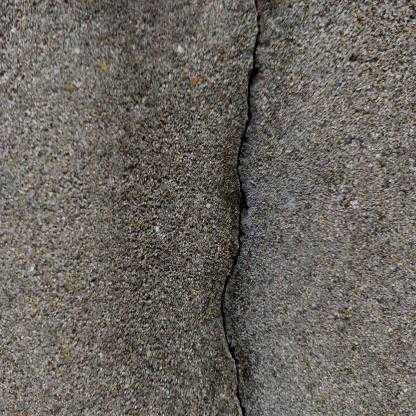crack: (219, 1, 261, 416)
